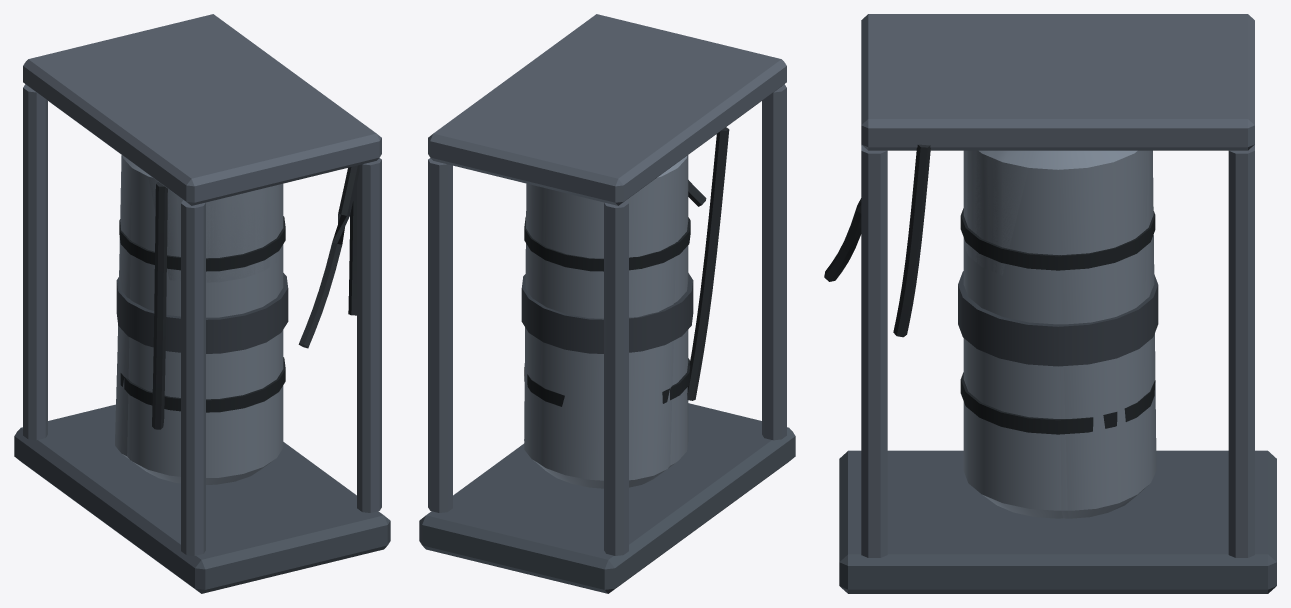
The model's file is shr_cmp_energy_cell_b.glb.
3 renders of one model, left to right at view 1: azimuth 30°, elevation 25°; view 2: azimuth 150°, elevation 25°; view 3: azimuth 270°, elevation 25°, orthographic. The views are drawn at different scales.
Visible parts, largest first — view 1: mesh_heavy, mesh_intact, mesh_light; view 2: mesh_heavy, mesh_light, mesh_intact; view 3: mesh_heavy, mesh_intact, mesh_light.
Part boxes in pixels (left/top/right/bottom): mesh_heavy: left=14, top=14, right=390, bottom=593; mesh_intact: left=131, top=15, right=381, bottom=512; mesh_light: left=14, top=89, right=387, bottom=593; mesh_heavy: left=419, top=27, right=795, bottom=593; mesh_light: left=422, top=171, right=795, bottom=592; mesh_intact: left=435, top=14, right=781, bottom=461; mesh_heavy: left=824, top=14, right=1276, bottom=593; mesh_intact: left=861, top=14, right=1247, bottom=557; mesh_light: left=839, top=150, right=1276, bottom=593.
Size of the model in its own units: 0.3057 by 0.6 by 0.5174.
